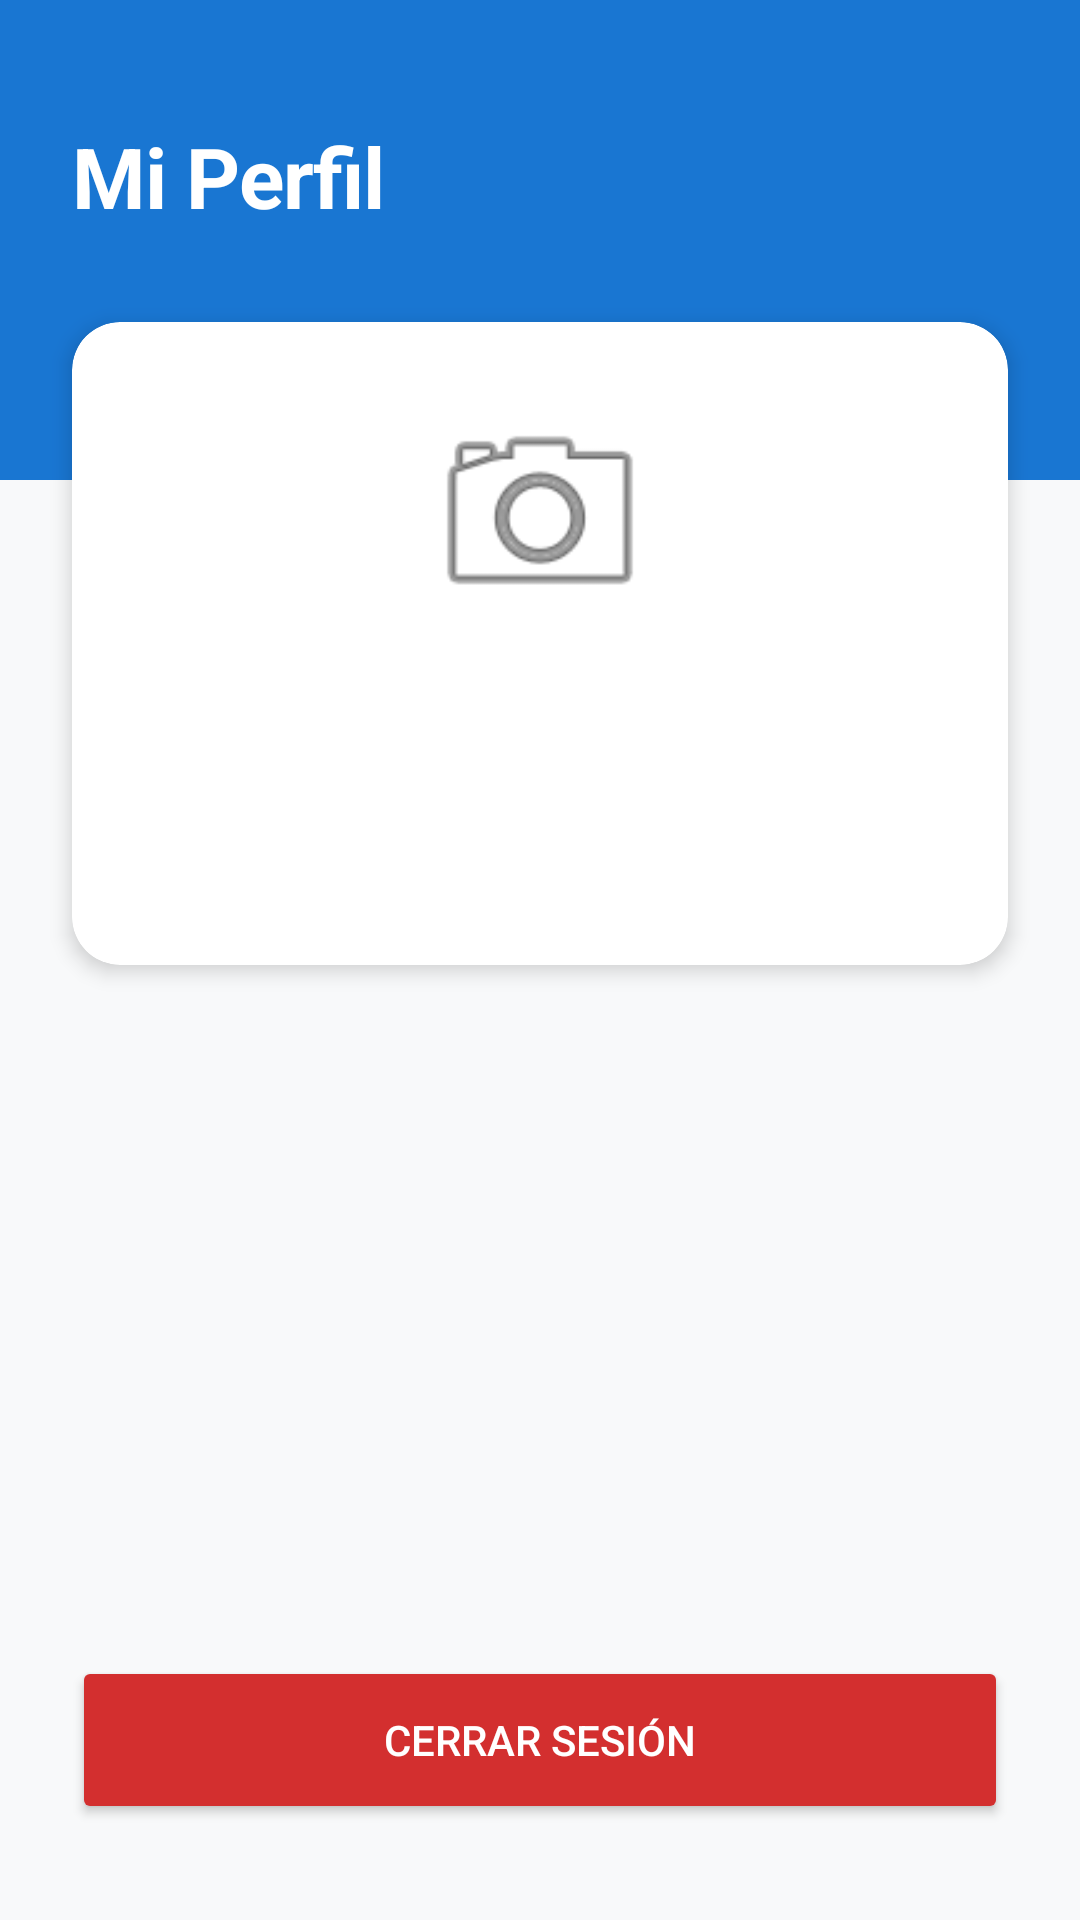

Icon bounding boxes for this 1080px x 1920px phone screenshot, format (x1, y1, x2, y2):
camera: (447, 436, 633, 584)
